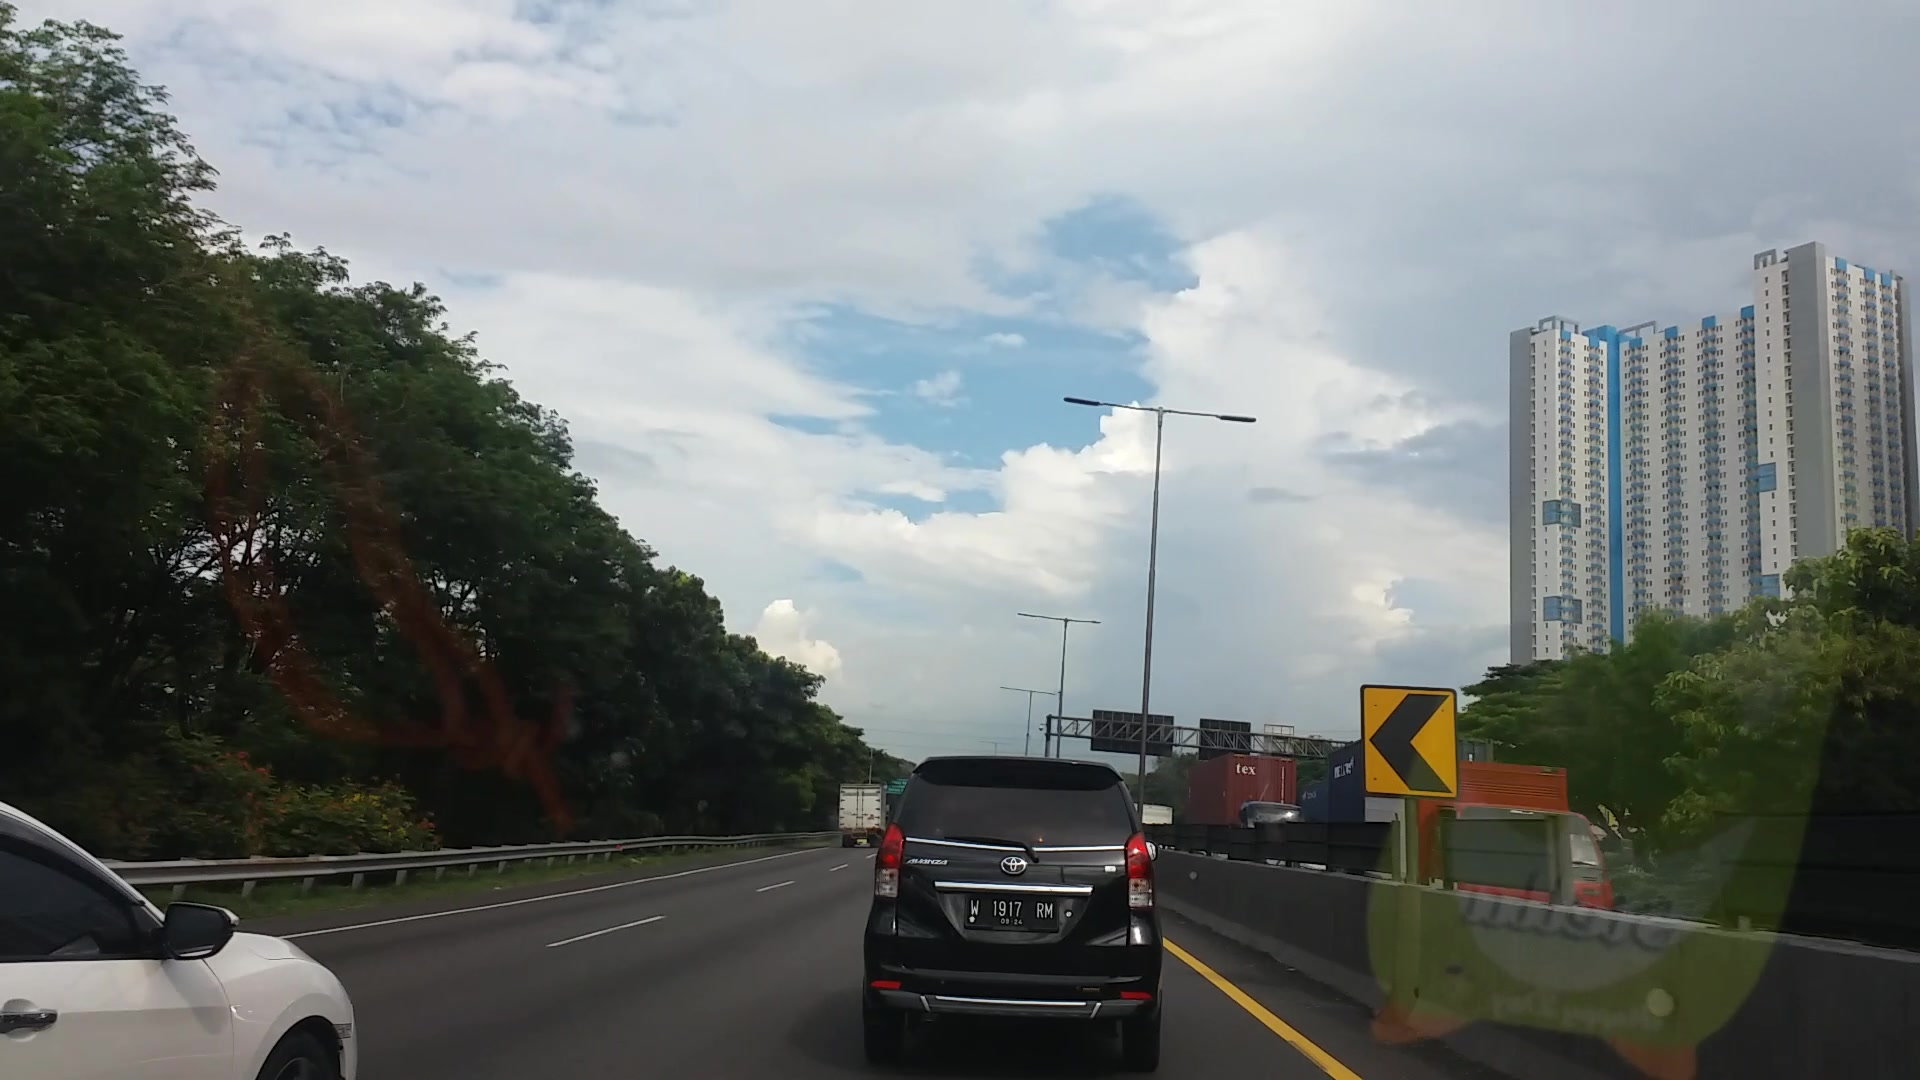plate_positive: (967, 895, 1054, 927)
